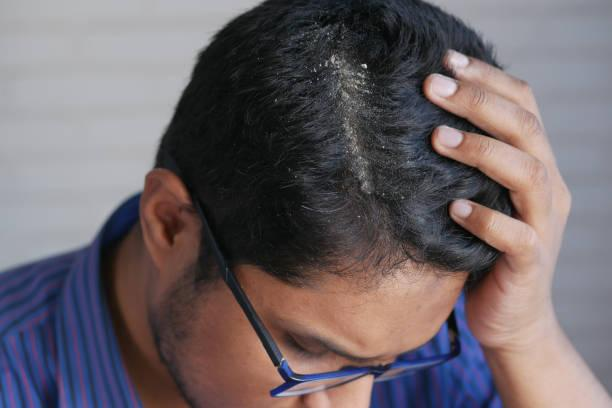dandruff: (295, 21, 376, 114), (346, 185, 424, 215), (364, 133, 406, 166), (276, 153, 302, 189)
